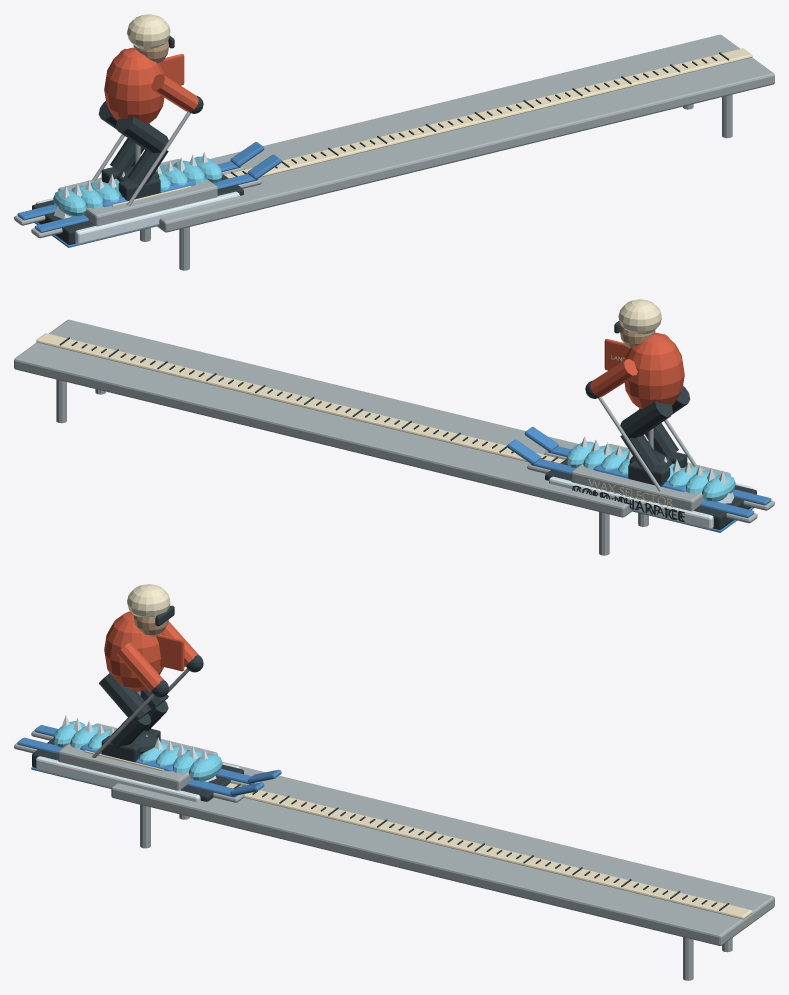
The model's file is snow-lesson-props.glb.
3 views of the same model, one above another, from view 1: azimuth 30°, elevation 25°; view 2: azimuth 150°, elevation 25°; view 3: azimuth 330°, elevation 25° (orthographic).
Visible parts, largest first — view 1: Level landing table, Measuring tape, Red jacket, Selector housing, Magnified snow sample, Helmet, Upper leg, Sleeve, Soft ski base, Blue ski top, Lower leg, Melt water droplet (+7 smaller); view 2: Level landing table, Measuring tape, Red jacket, Selector housing, Magnified snow sample, Helmet, Upper leg.001, Sleeve.001, Blue ski top.001, Soft ski base, Ski boot.001, Lower leg.001 (+7 smaller); view 3: Level landing table, Measuring tape, Selector housing, Red jacket, Magnified snow sample, Helmet, Upper leg, Sleeve, Red target pennant, Soft ski base, Blue ski top, Melt water droplet.008.
Boxes of the visible parts, x1,y1,x2,y2 form: Level landing table: (157,34,774,232); Measuring tape: (224,48,752,178); Red jacket: (104,47,164,123); Selector housing: (58,159,217,226); Magnified snow sample: (36,191,239,244); Helmet: (127,14,170,49); Upper leg: (116,116,168,152); Sleeve: (151,74,198,111); Soft ski base: (32,174,243,244); Blue ski top: (34,174,258,232); Lower leg: (127,150,168,187); Melt water droplet: (53,189,86,216); Level landing table: (14,319,631,517); Measuring tape: (36,333,564,463); Red jacket: (624,332,684,408); Selector housing: (571,444,730,511); Magnified snow sample: (549,476,752,529); Helmet: (618,299,661,334); Upper leg.001: (620,401,672,437); Sleeve.001: (590,359,637,396); Blue ski top.001: (530,459,754,517); Soft ski base: (545,459,756,529); Ski boot.001: (628,460,670,486); Lower leg.001: (620,435,661,472); Level landing table: (111,762,774,945); Measuring tape: (226,783,752,919); Selector housing: (58,723,217,790); Red jacket: (104,611,163,691); Magnified snow sample: (36,756,239,802); Helmet: (127,584,170,617); Upper leg: (99,672,151,723); Sleeve: (116,642,163,692); Red target pennant: (156,634,184,671); Soft ski base: (32,738,243,801); Blue ski top: (17,737,237,797); Melt water droplet.008: (188,754,222,781).
Bounding box in the file's own units: 5.32 × 1.7 × 0.7.
